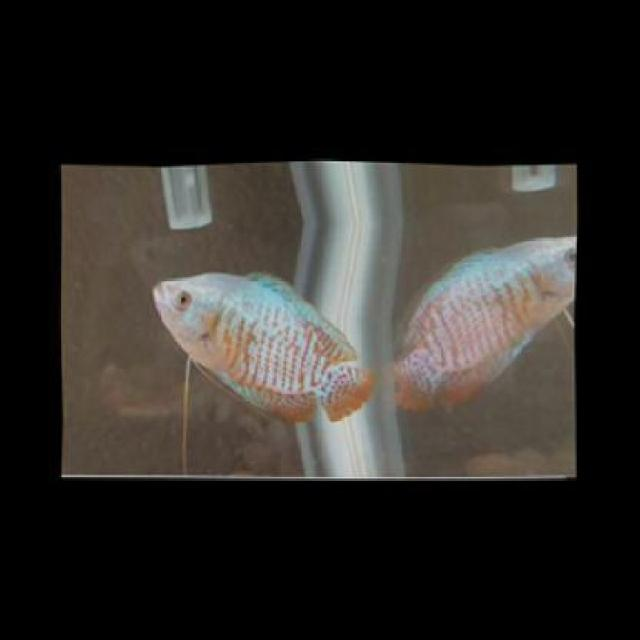Gourami: (154, 260, 380, 420)
